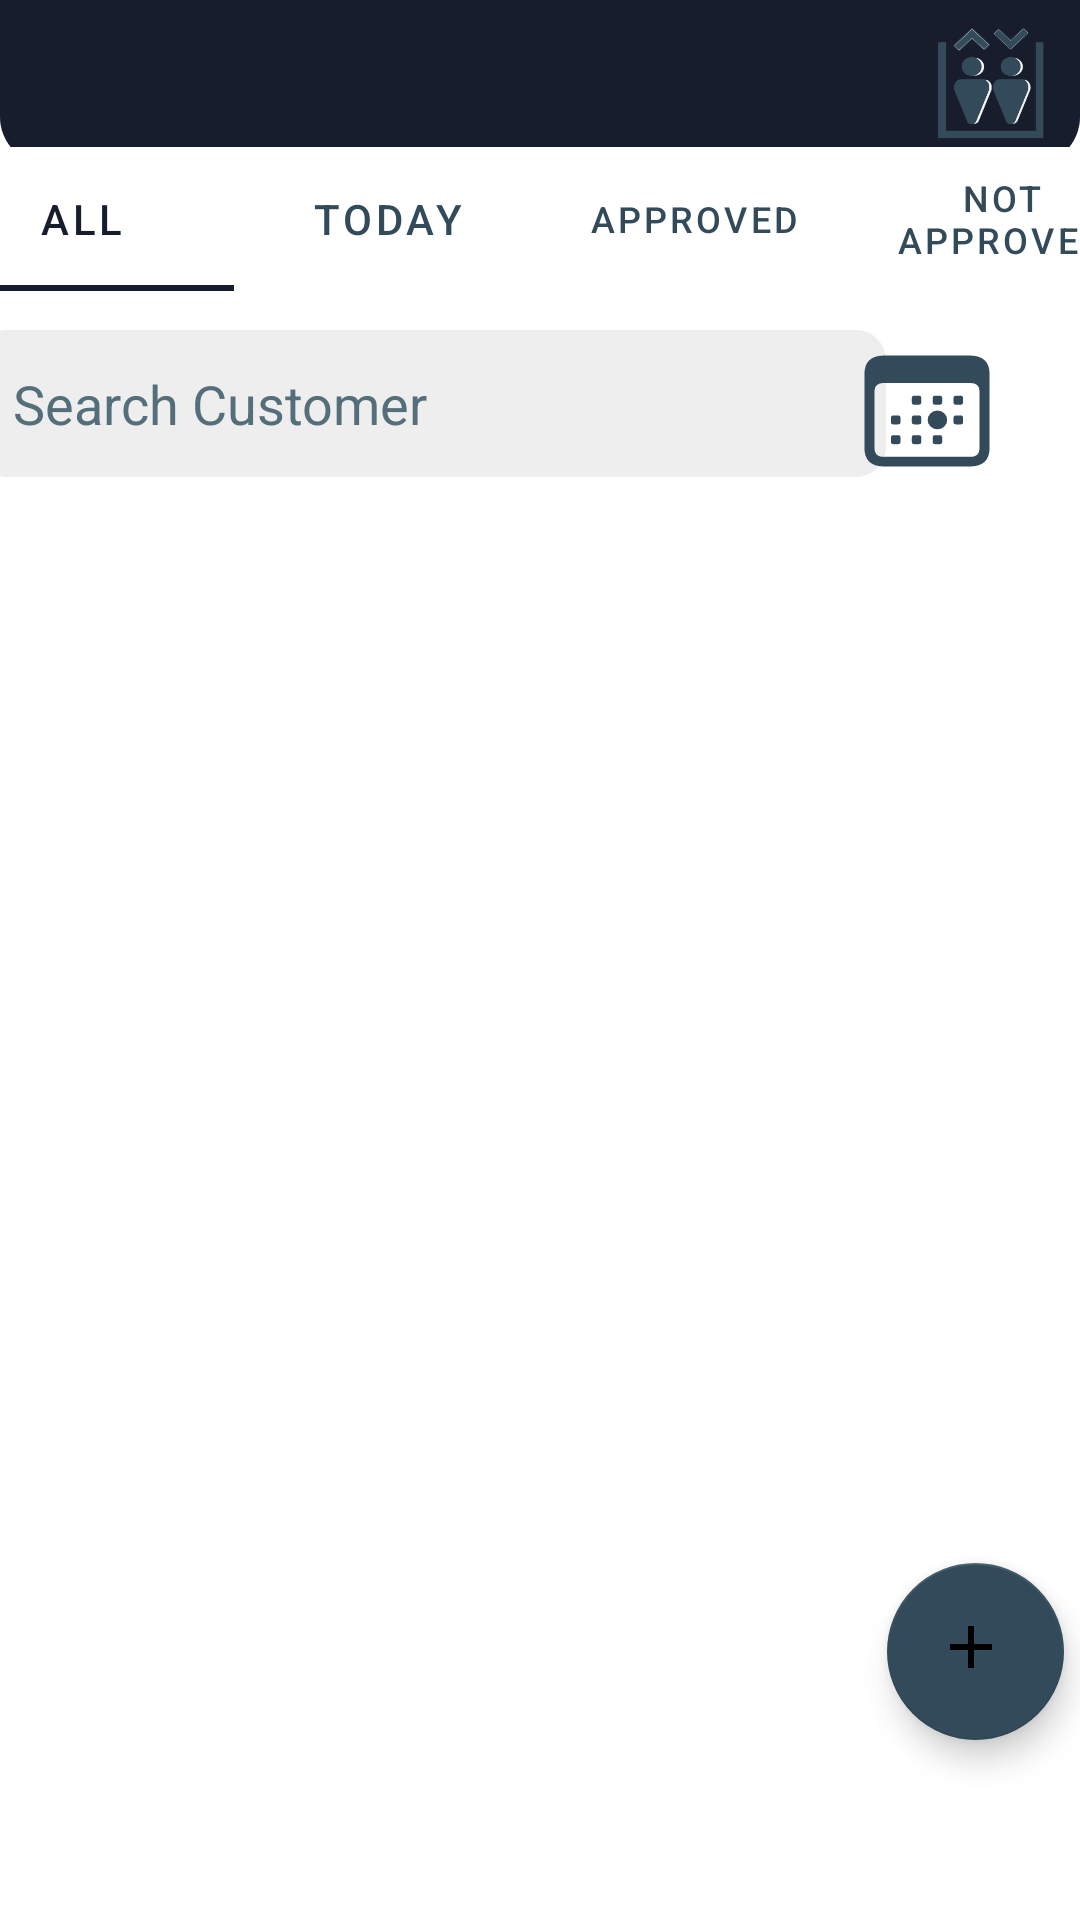

Point at icon controls on the screen. Image size 1080 × 1920, points as point (x, y).
Add: point (975, 1651)
calendar today: point (927, 411)
